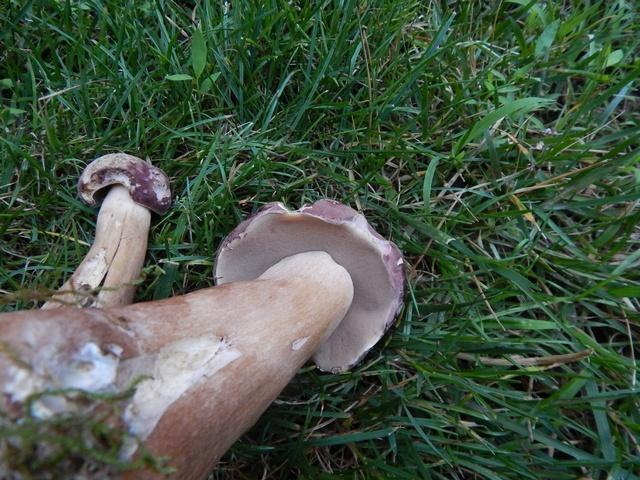poisonous_mushroom: (212, 197, 406, 374), (39, 151, 172, 310)
